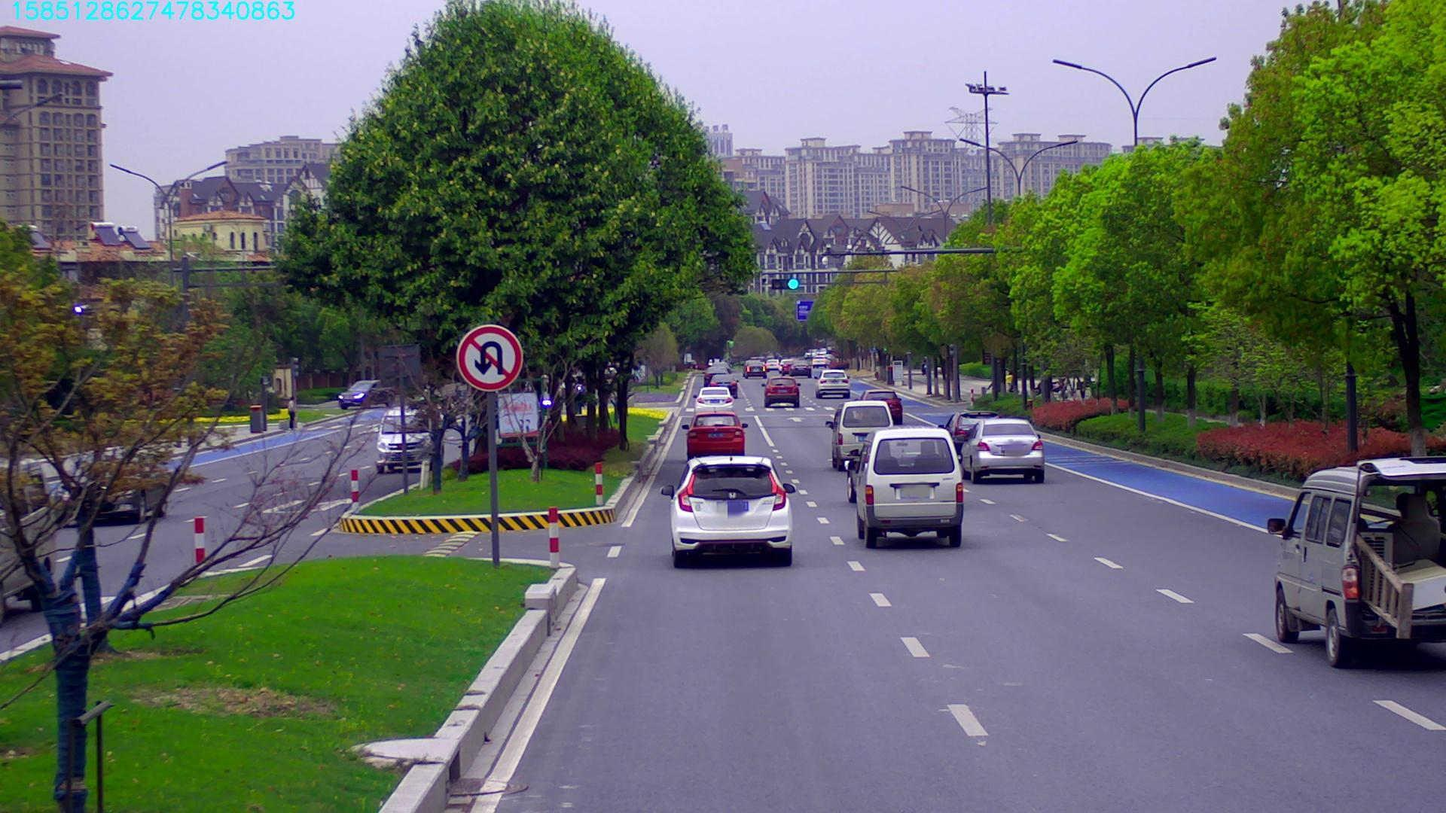green: (769, 278, 802, 291)
